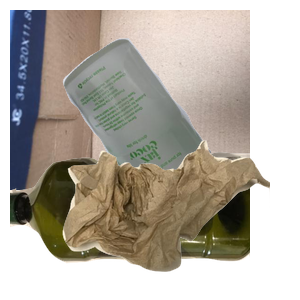cardboard: (10, 10, 250, 190)
glass: (60, 36, 300, 216)
plastic: (10, 149, 250, 300)
trash: (60, 138, 300, 300)
